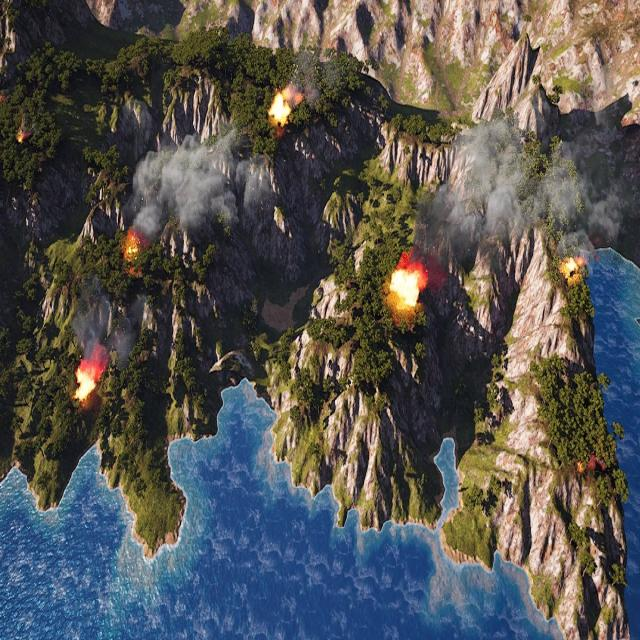fire: (389, 262, 424, 308), (74, 364, 98, 402), (270, 92, 293, 123), (577, 454, 605, 475), (125, 231, 141, 258), (564, 256, 579, 273), (16, 130, 24, 144)
smoke: (408, 114, 619, 257), (128, 118, 270, 240), (72, 295, 146, 367)
